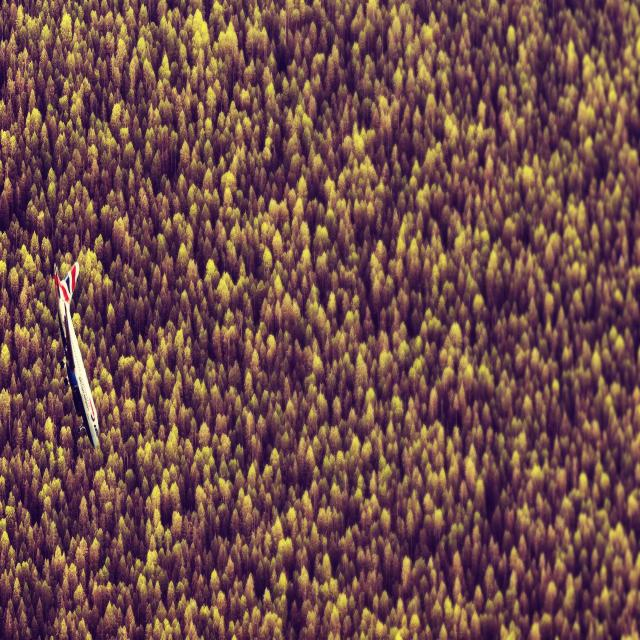airplane: (52, 261, 100, 451)
